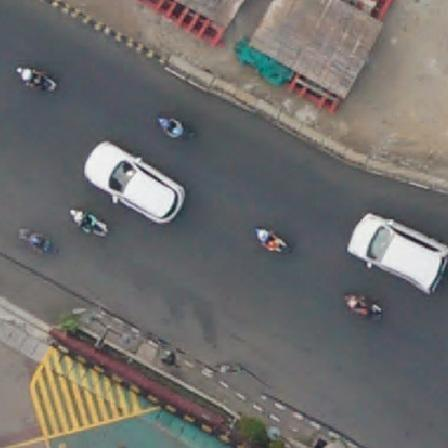Car: (86, 140, 183, 226), (347, 210, 446, 292)
Motorcycle: (14, 63, 60, 96), (16, 227, 55, 259), (68, 208, 109, 237), (344, 294, 385, 323), (252, 226, 289, 256), (154, 114, 195, 140)
